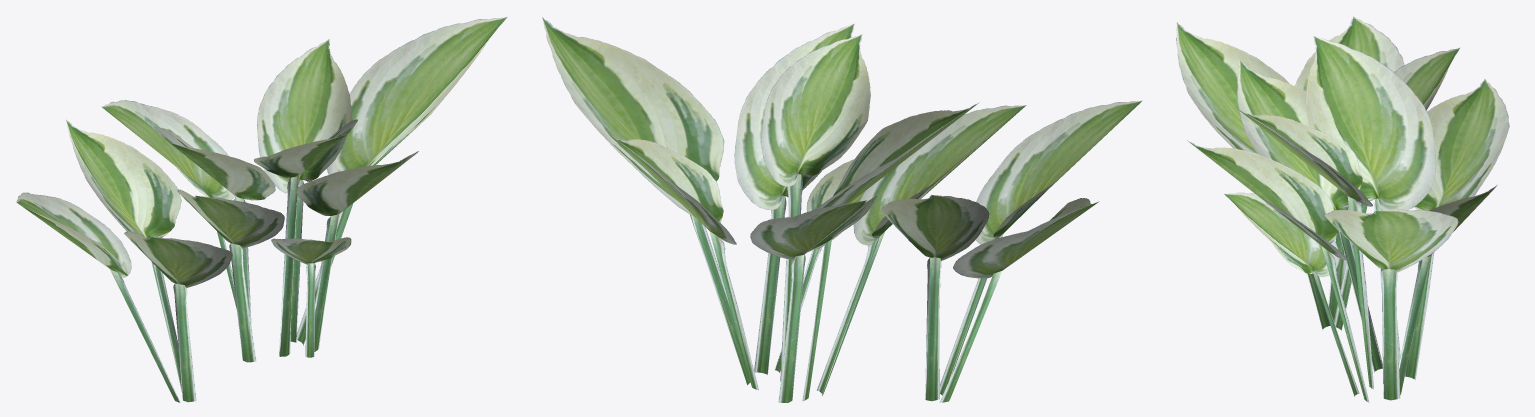
Rendered from plant_small_wg_02U.fbx.
The picture shows the model from 3 angles, left to right: view 1: azimuth 30°, elevation 25°; view 2: azimuth 150°, elevation 25°; view 3: azimuth 270°, elevation 25°; orthographic projection. The views are drawn at different scales.
Visible parts, largest first — view 1: plant_small_wg_02U; view 2: plant_small_wg_02U; view 3: plant_small_wg_02U.
Boxes of the visible parts, x1,y1,x2,y2 form: plant_small_wg_02U: (16,16,507,402); plant_small_wg_02U: (542,17,1142,402); plant_small_wg_02U: (1176,16,1509,402).
Bounding box in the file's own units: 90.1 × 48.39 × 52.35.
